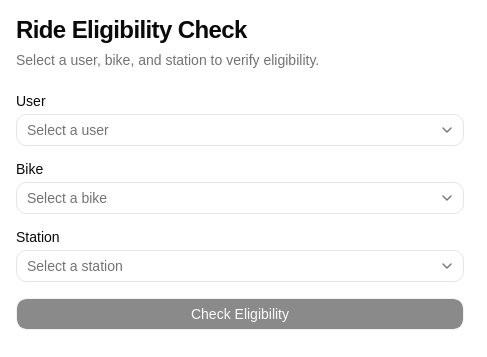
Test: RideEligibilityPage › enables submit button when all selections are made
This screenshot has width=487, height=357.
Expected: the heading "Ride Eligibility Check" is shown, [16,16,247,43]
What coordinates should you click on to do the following:
click the dropdown with id "user-select"
I would click on:
 (68, 130)
Its box is [16,114,464,146].
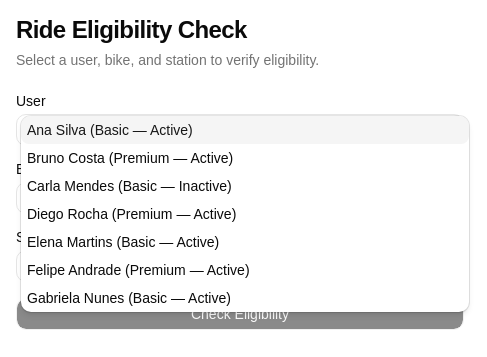
What coordinates should you click on to do the following:
click the option "Bruno Costa (Premium — Active)"
I would click on:
 (130, 158)
Its box is [27,150,233,166].
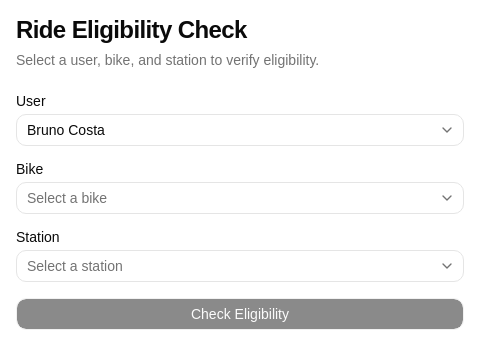
What coordinates should you click on to do the following:
click the dropdown with id "bike-select"
I would click on:
 (67, 198)
Its box is [16,182,464,214].
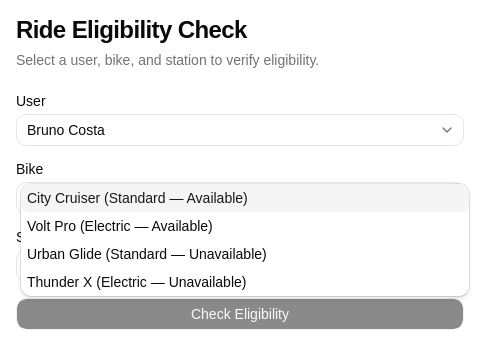
What coordinates should you click on to do the following:
click the option "Volt Pro (Electric — Available)"
I would click on:
 (120, 226)
Its box is [27,218,213,234].
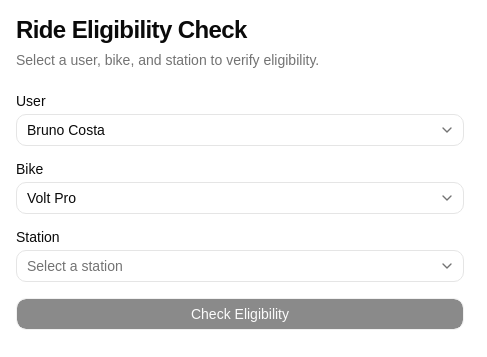
What coordinates should you click on to do the following:
click the dropdown with id "station-select"
I would click on:
 (75, 266)
Its box is [16,250,464,282].
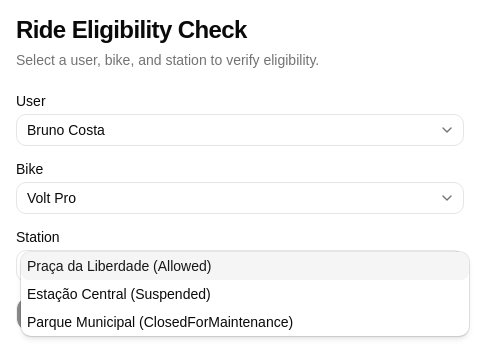
What coordinates should you click on to do the following:
click the option "Praça da Liberdade (Allowed)"
I would click on:
 (88, 266)
Its box is [21,252,469,280].
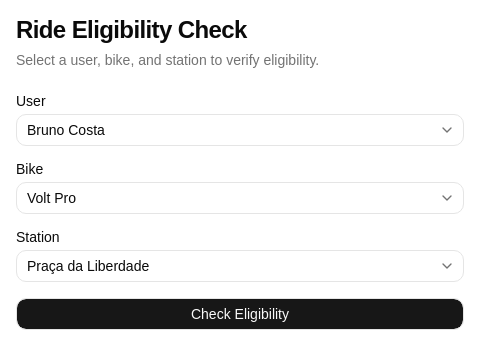
Now the button "Check Eligibility" is enabled, box [16,298,464,330]
